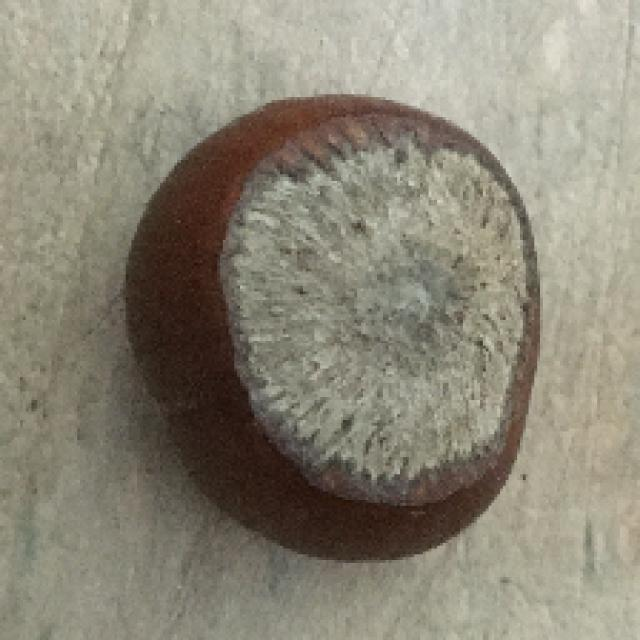damagedHazelnut: (127, 97, 538, 563)
